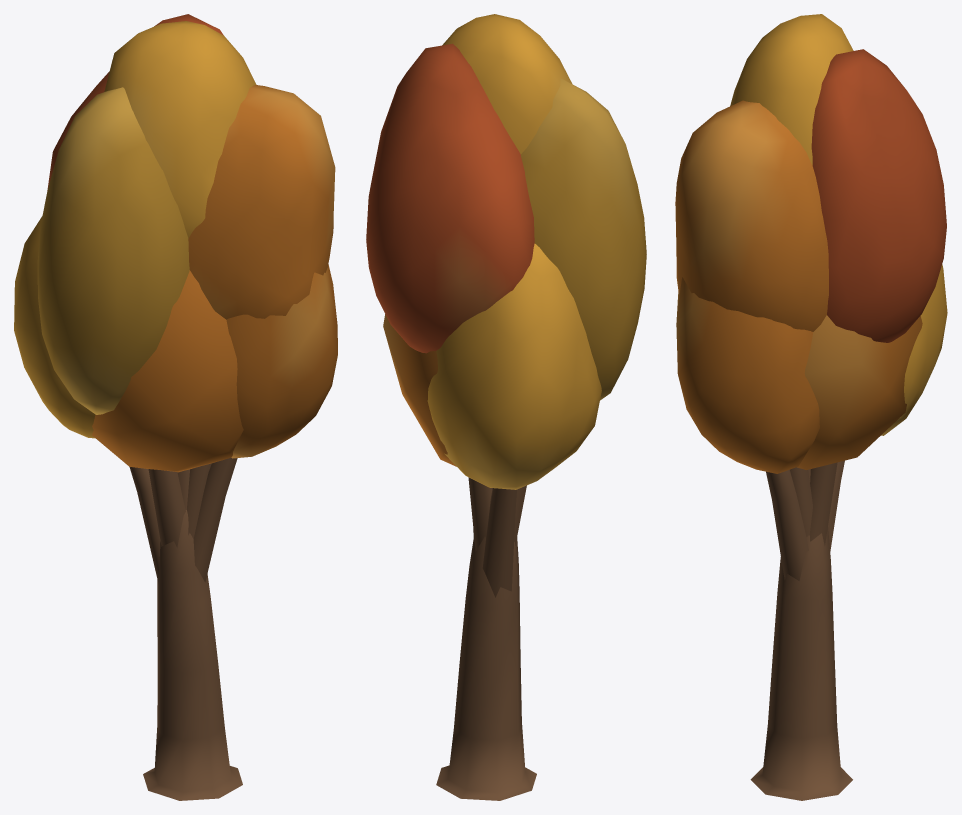
File: decor_feuillu_automne_2.glb
3 views of the same model, side by side, from view 1: azimuth 30°, elevation 25°; view 2: azimuth 150°, elevation 25°; view 3: azimuth 270°, elevation 25° (orthographic).
Parts seen in each view (by area): view 1: feuillage, tronc; view 2: feuillage, tronc; view 3: feuillage, tronc.
Boxes of the visible parts, left/top/right/bottom form: feuillage: left=14, top=14, right=337, bottom=472; tronc: left=129, top=457, right=242, bottom=800; feuillage: left=366, top=14, right=646, bottom=489; tronc: left=436, top=477, right=536, bottom=800; feuillage: left=675, top=14, right=947, bottom=473; tronc: left=750, top=460, right=852, bottom=800.
Size of the model in its own units: 0.2981 by 0.8387 by 0.2749.
